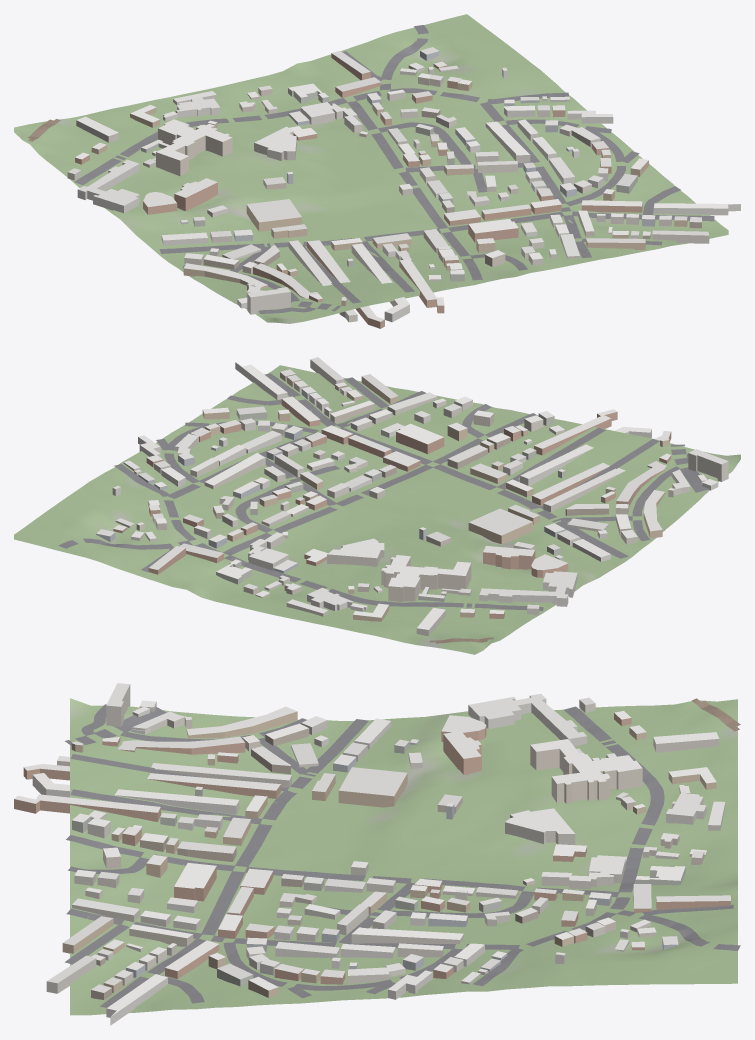
The picture shows the model from 3 angles, top to bottom: view 1: azimuth 30°, elevation 25°; view 2: azimuth 150°, elevation 25°; view 3: azimuth 270°, elevation 25°; orthographic projection. The views are drawn at different scales.
Parts seen in each view (by area): view 1: prim0, prim1, prim2; view 2: prim0, prim1, prim2; view 3: prim0, prim1, prim2.
Part boxes in pixels (x1,y1,x2,y2): prim0: (14, 14, 728, 323); prim1: (67, 47, 740, 328); prim2: (74, 25, 714, 313); prim0: (14, 365, 740, 654); prim1: (96, 357, 728, 635); prim2: (58, 373, 709, 611); prim0: (70, 698, 737, 1015); prim1: (14, 683, 730, 1025); prim2: (65, 704, 740, 1007).
Bounding box in the file's own units: 559 × 38.8 × 557.
